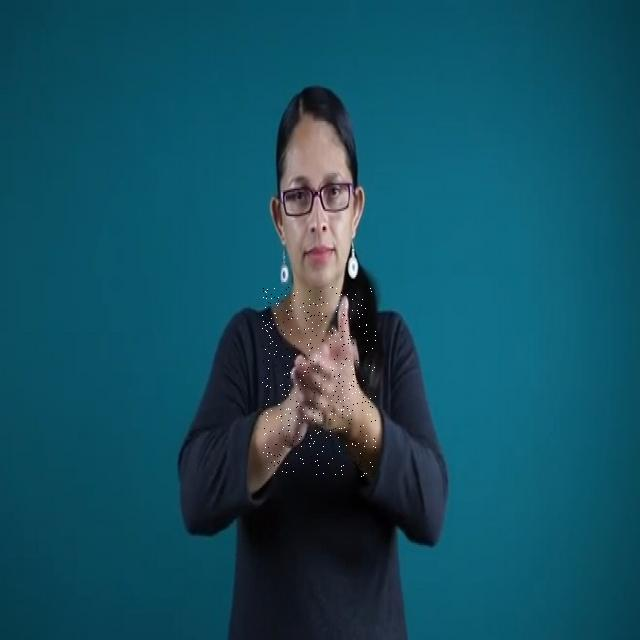burger: (262, 287, 376, 477)
